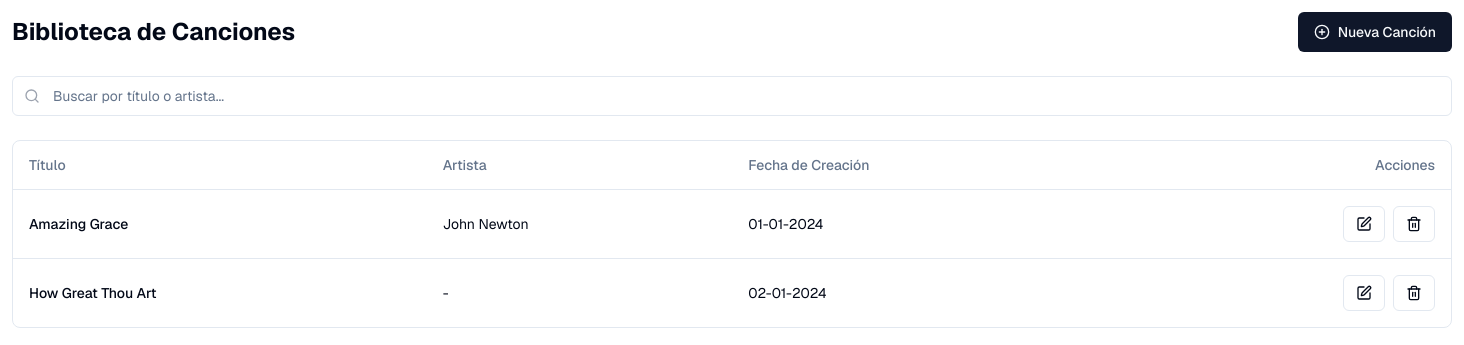
Test: SongsPage › shows empty state when no songs match search
Expected: the text "Amazing Grace" is shown, [13, 189, 427, 258]
Type "Nonexistent Song" into the field with placeholder "Buscar por título o artista..." at (732, 96), box [12, 76, 1452, 116]
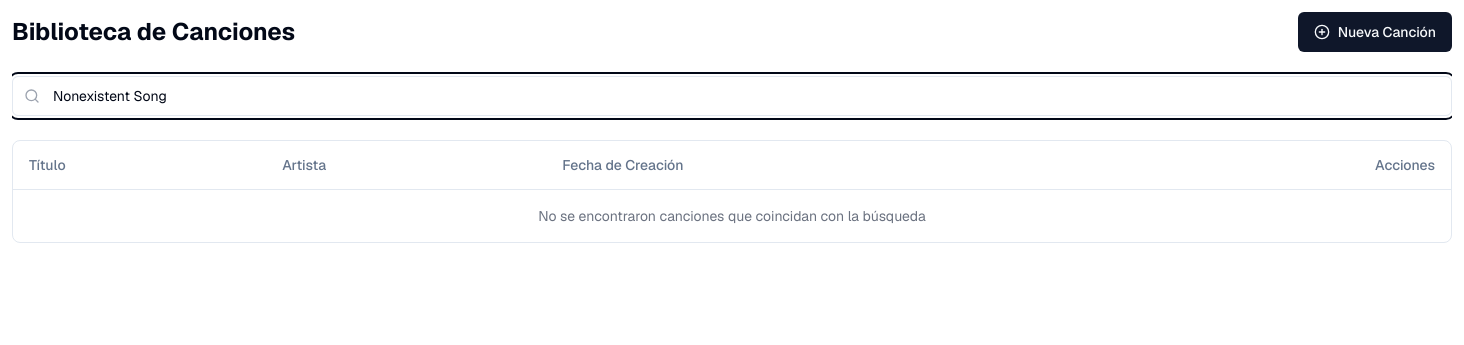
Expected: the text "No se encontraron canciones que coincidan con la búsqueda" is shown, [13, 189, 1451, 242]
